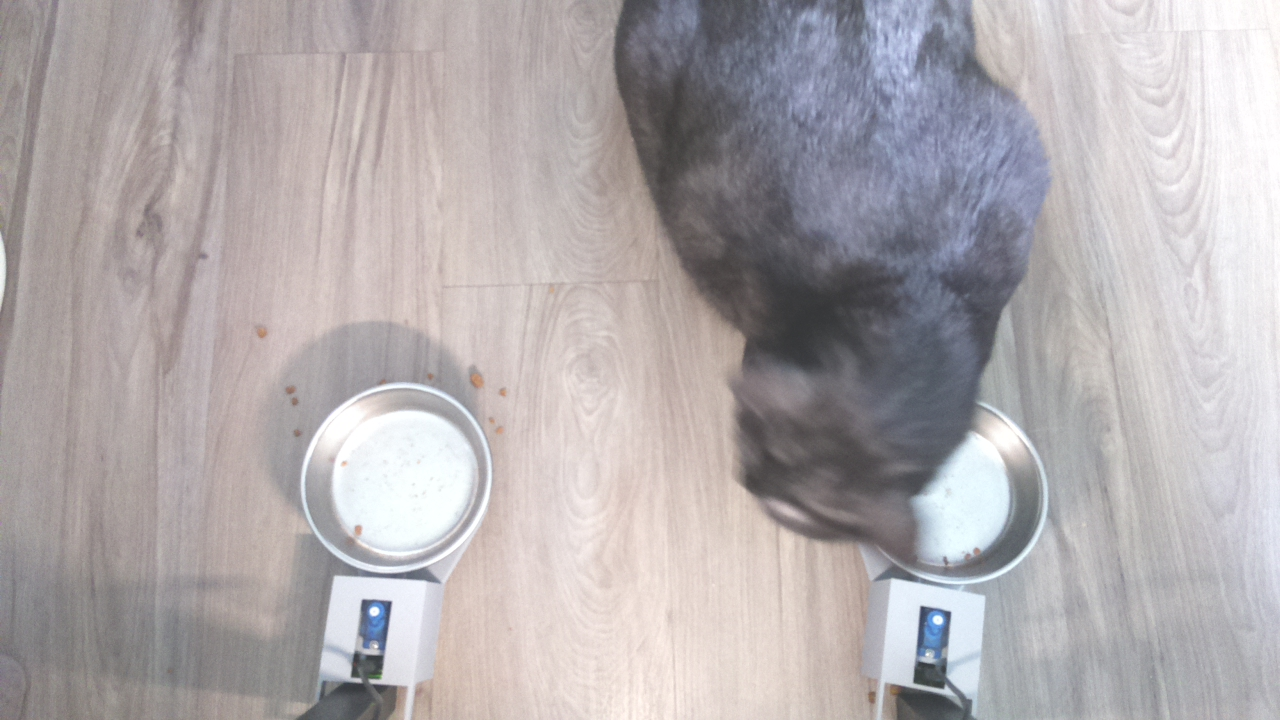open_bowl: (291, 378, 493, 577)
